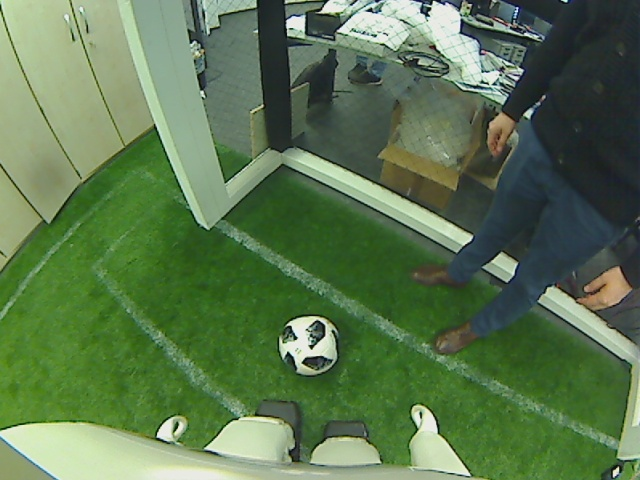ball: (275, 310, 340, 376)
